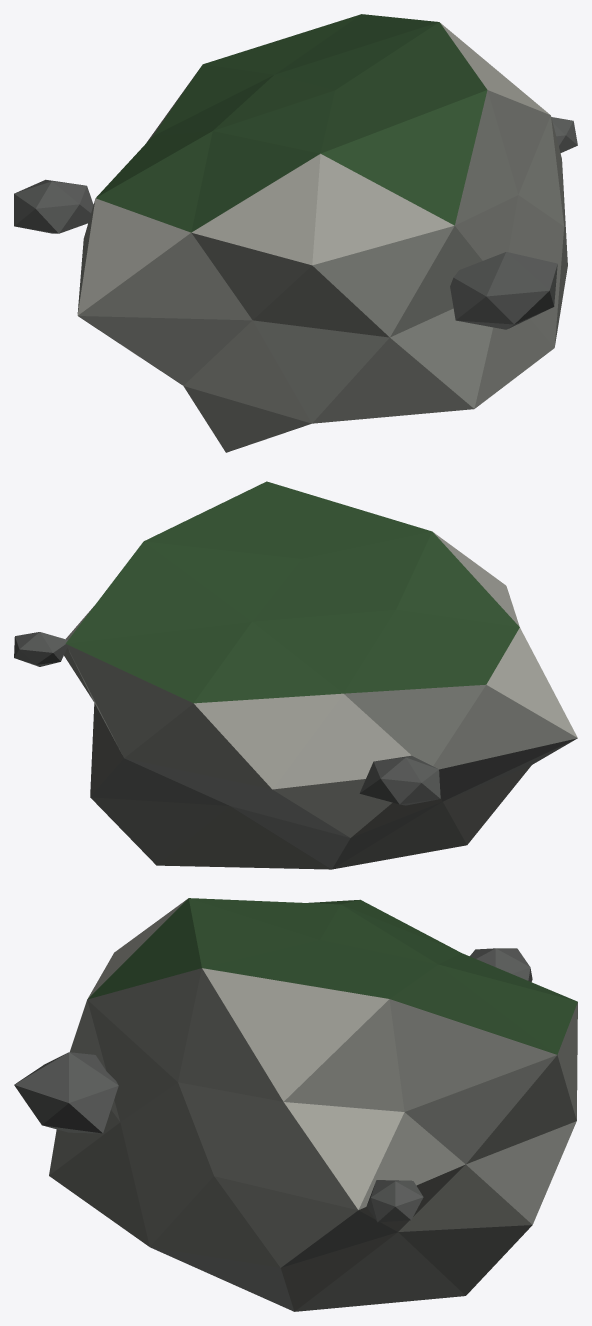
Rendered from rock_01.glb.
3 renders of one model, top to bottom at view 1: azimuth 30°, elevation 25°; view 2: azimuth 150°, elevation 25°; view 3: azimuth 270°, elevation 25°, orthographic. The views are drawn at different scales.
Visible parts, largest first — view 1: rock_01; view 2: rock_01; view 3: rock_01.
Boxes of the visible parts, <box> form: rock_01: <box>14,14,577,452</box>; rock_01: <box>14,481,577,869</box>; rock_01: <box>14,898,577,1311</box>.
Size of what is drawn, in the model's own units: 2.24 by 1.24 by 1.91.
Materials: 1 (1 with a texture image).
